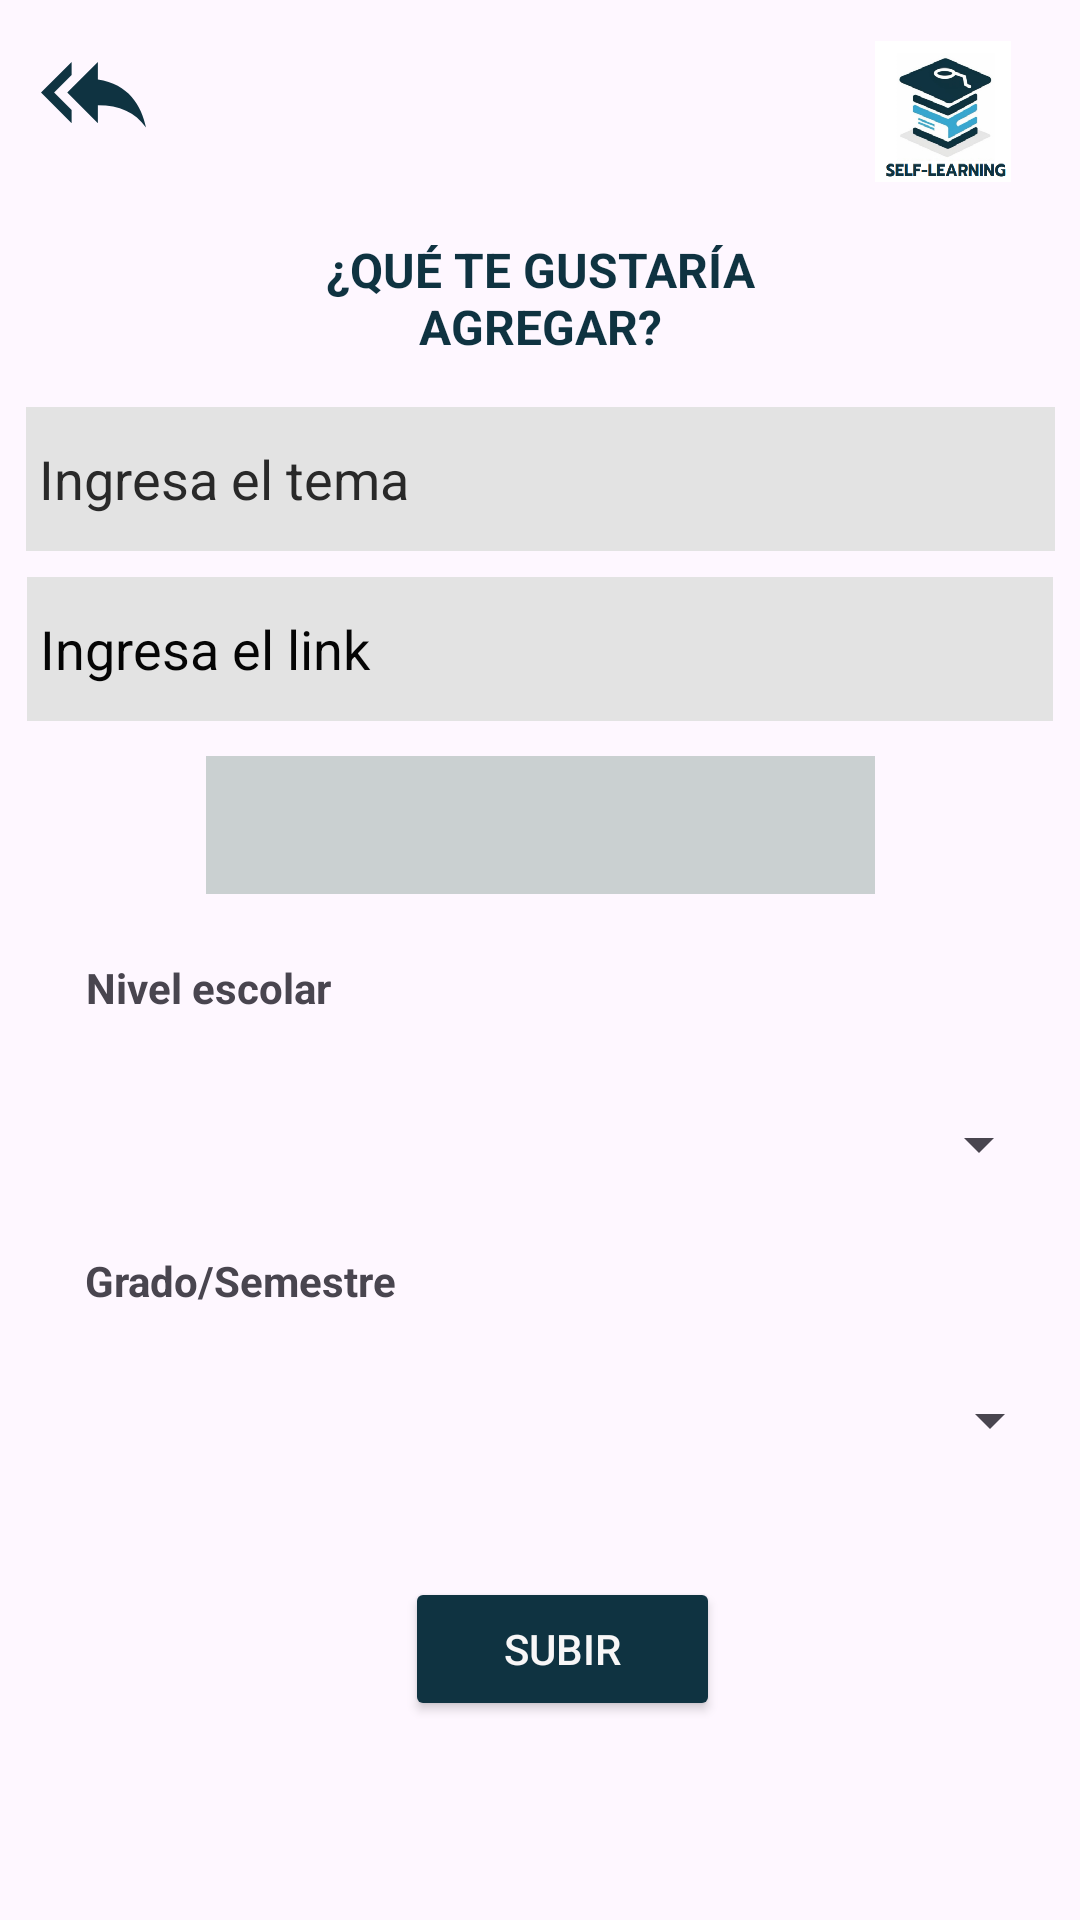

Named icons in this screenshot (1080 x 1920) and their bounding boxes, [x1,y1,x2,y2]:
backimage: [41,62,146,127]
